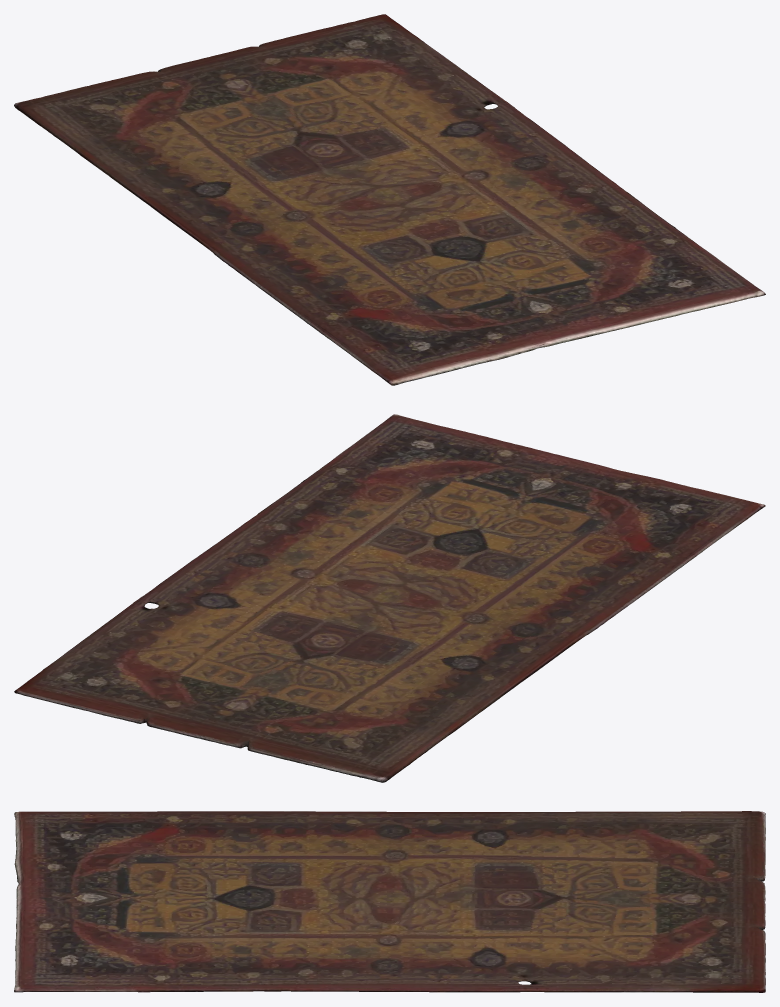
Rendered from ast_3141d754dd57.glb.
3 views of the same model, one above another, from view 1: azimuth 30°, elevation 25°; view 2: azimuth 150°, elevation 25°; view 3: azimuth 270°, elevation 25° (orthographic).
Parts seen in each view (by area): view 1: geometry_0; view 2: geometry_0; view 3: geometry_0.
Part boxes in pixels (box(x1,y1,x2,y2)): geometry_0: box(14, 14, 765, 385); geometry_0: box(14, 414, 765, 782); geometry_0: box(14, 811, 765, 992).
Bounding box in the file's own units: 0.5687 × 0.00934 × 0.9999.
1 material, 1 textured.
